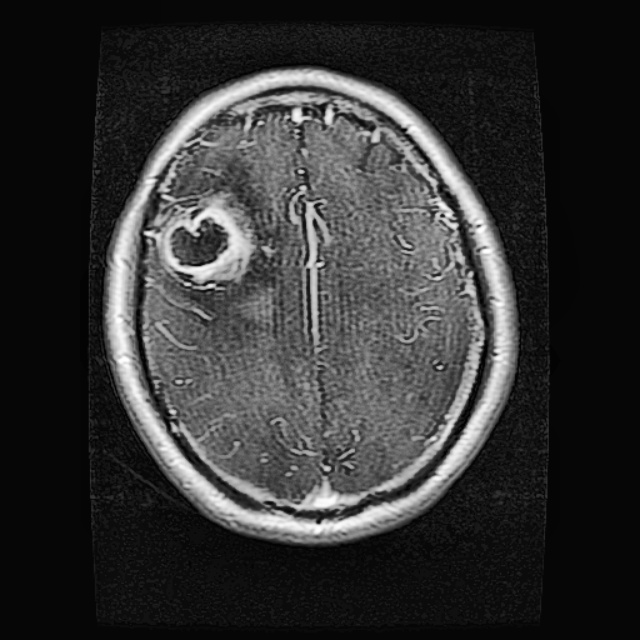Pituitary: (157, 190, 253, 289)
